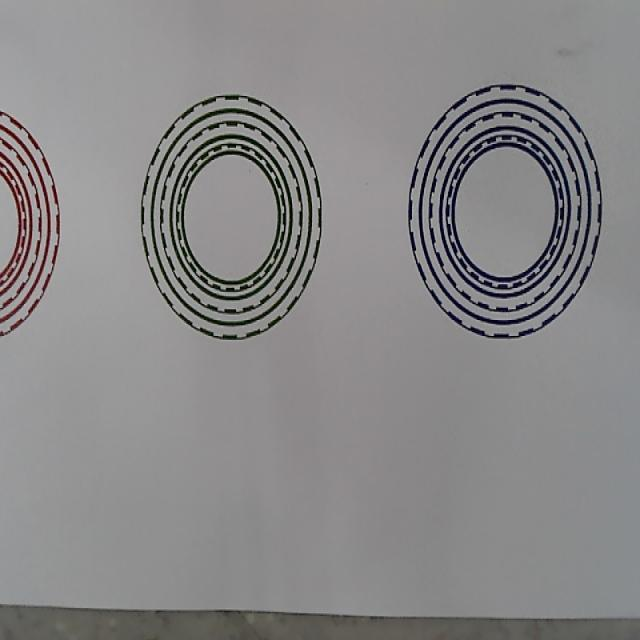b: (407, 83, 603, 338)
g: (139, 94, 322, 340)
